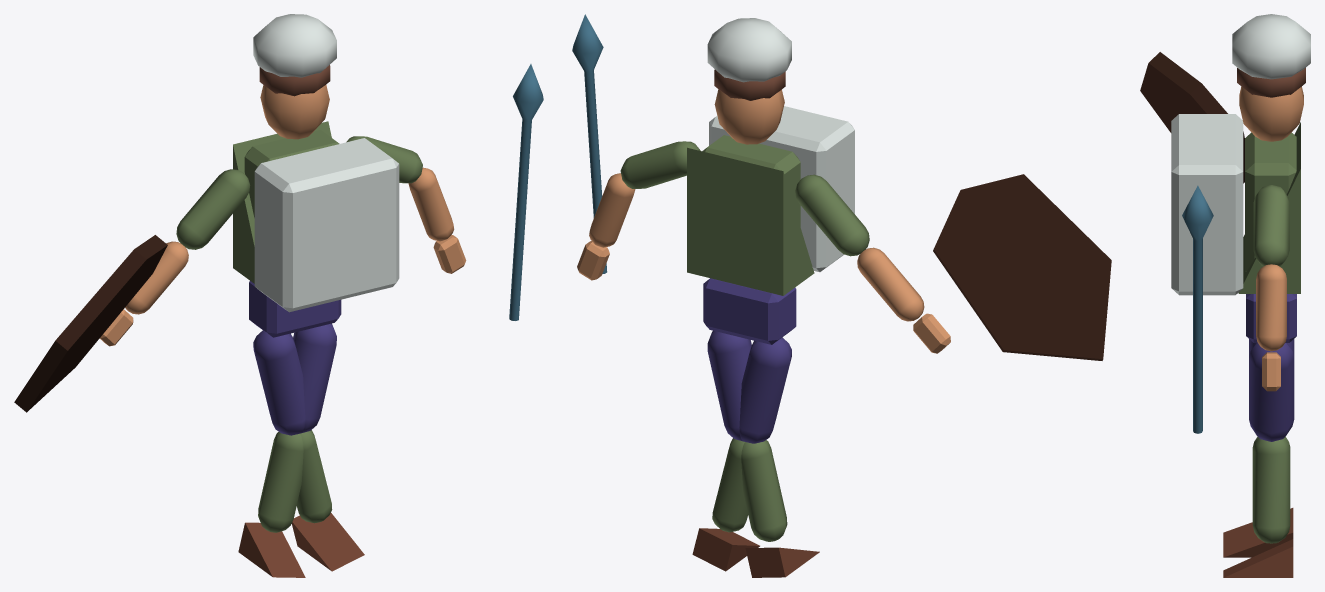
The model's file is adventurer.rustic.glb.
3 views of the same model, side by side, from view 1: azimuth 30°, elevation 25°; view 2: azimuth 150°, elevation 25°; view 3: azimuth 270°, elevation 25° (orthographic).
Visible parts, largest first — view 1: accessory.body, accessory.off-hand, accessory.head, thigh.left, shin.right, accessory.main-hand, upper-arm.left, thigh.right, head, pelvis, foot.left, tunic (+8 smaller); view 2: accessory.off-hand, tunic, accessory.body, pelvis, accessory.head, thigh.left, shin.right, upper-arm.left, thigh.right, head, accessory.main-hand, forearm.left (+9 smaller); view 3: accessory.body, accessory.head, shin.left, accessory.off-hand, thigh.right, torso, accessory.main-hand, upper-arm.right, head, forearm.right, tunic, foot.left (+4 smaller).
Part boxes in pixels (bbox=[...]): accessory.body: bbox=[254, 138, 399, 312]; accessory.off-hand: bbox=[14, 235, 167, 412]; accessory.head: bbox=[253, 14, 336, 77]; thigh.left: bbox=[253, 330, 305, 435]; shin.right: bbox=[258, 432, 303, 532]; accessory.main-hand: bbox=[509, 64, 543, 320]; upper-arm.left: bbox=[176, 169, 250, 249]; thigh.right: bbox=[293, 323, 336, 433]; head: bbox=[260, 85, 329, 139]; pelvis: bbox=[249, 281, 341, 337]; foot.left: bbox=[291, 513, 364, 571]; tunic: bbox=[233, 121, 331, 283]; accessory.off-hand: bbox=[933, 174, 1111, 360]; tunic: bbox=[687, 147, 814, 295]; accessory.body: bbox=[709, 106, 854, 272]; pelvis: bbox=[703, 278, 796, 344]; accessory.head: bbox=[707, 18, 791, 82]; thigh.left: bbox=[739, 337, 791, 443]; shin.right: bbox=[741, 440, 787, 541]; upper-arm.left: bbox=[795, 174, 869, 256]; thigh.right: bbox=[707, 330, 751, 441]; head: bbox=[714, 89, 784, 144]; accessory.main-hand: bbox=[572, 14, 607, 273]; forearm.left: bbox=[857, 247, 924, 321]; accessory.body: bbox=[1171, 114, 1243, 295]; accessory.head: bbox=[1232, 14, 1310, 79]; shin.left: bbox=[1252, 437, 1290, 543]; accessory.off-hand: bbox=[1140, 52, 1244, 183]; thigh.right: bbox=[1249, 343, 1294, 441]; torso: bbox=[1245, 132, 1296, 271]; accessory.main-hand: bbox=[1182, 185, 1213, 433]; upper-arm.right: bbox=[1253, 185, 1289, 266]; head: bbox=[1239, 86, 1303, 141]; forearm.right: bbox=[1256, 264, 1286, 351]; tunic: bbox=[1238, 122, 1300, 293]; foot.left: bbox=[1223, 539, 1293, 577].
Bounding box in the file's own units: 3.26 × 3.18 × 0.9041.
